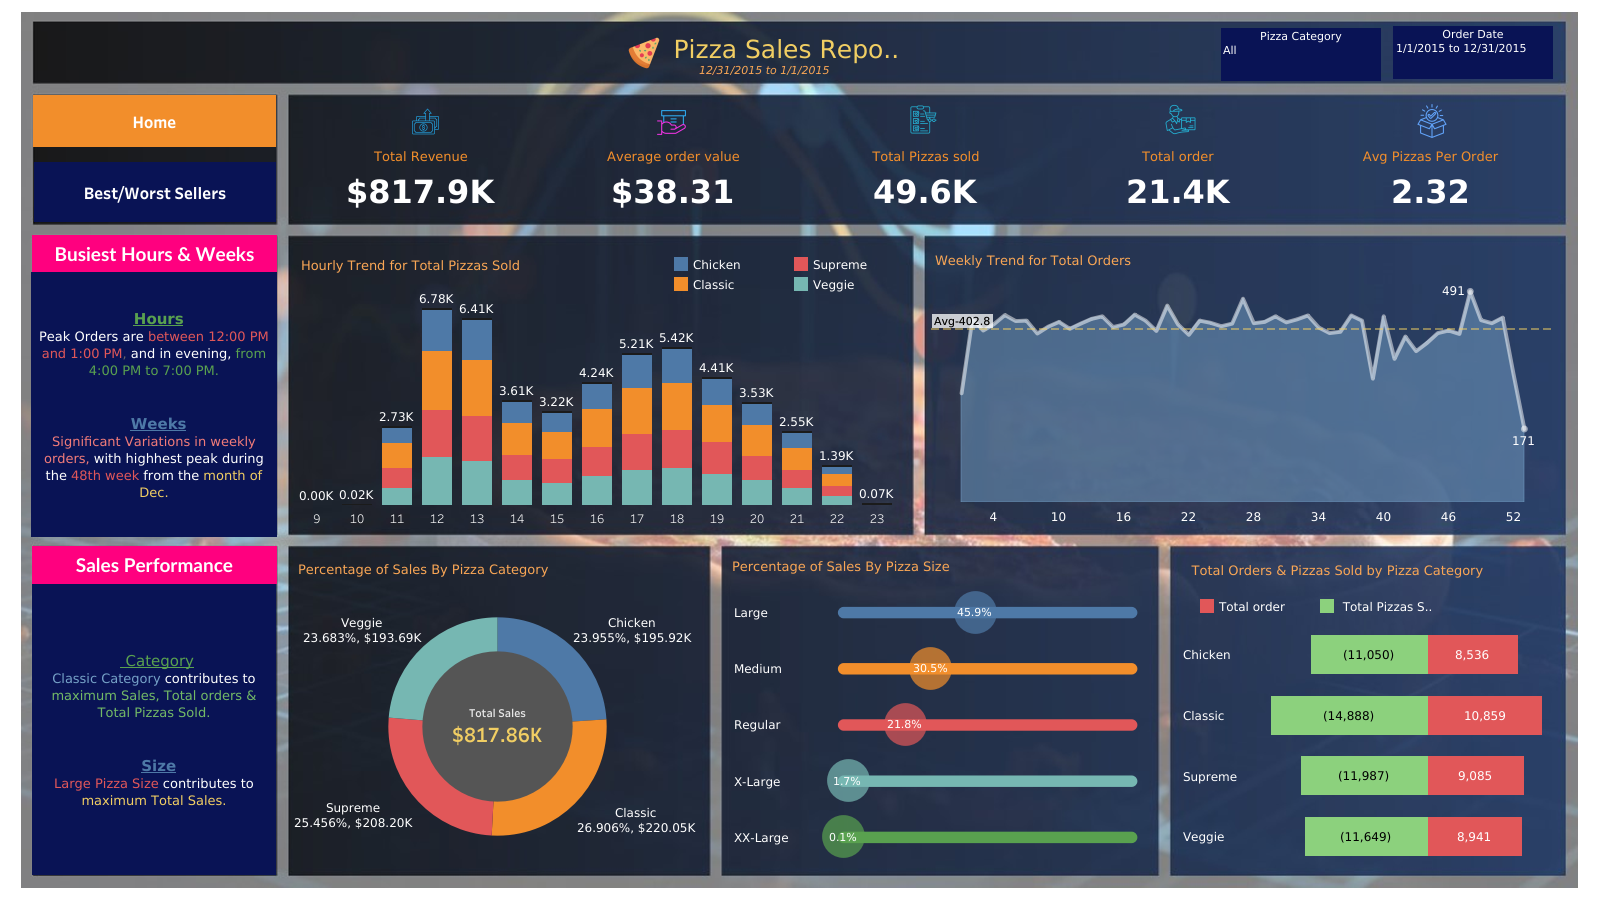

What the dashboard file says about the page in this screenshot:
{"tool":"tableau","page":{"name":"Home","canvas":[1600,900],"ordinal":1},"visuals":[{"type":"image","param":"C:/Users/Itachi/Desktop/New project tableu/Pizza Tableau 1.jpg","box":[8,8,1584,884]},{"type":"filter","title":"Hourly Trend for Total Pizzas Sold","param":"[federated.03bgv0s0dyzwbk13dzrzc1rfufev].[none:order_date:qk]","box":[1393,26,160,53]},{"type":"filter","title":"Hourly Trend for Total Pizzas Sold","param":"[federated.03bgv0s0dyzwbk13dzrzc1rfufev].[none:pizza_category:nk]","box":[1221,28,160,53]},{"type":"text","box":[671,32,230,34]},{"type":"image","param":"C:/Users/Itachi/Desktop/New project tableu/Pizza Sales Images/pizza-slice.png","box":[617,37,54,32]},{"type":"worksheet","title":"Date Range","mark":"Automatic","box":[644,61,241,19]},{"type":"dashboard-object","box":[33,95,243,52]},{"type":"image","param":"C:/Users/Itachi/Desktop/New project tableu/Pizza Sales Images/delivery-man.png","box":[1162,104,38,31]},{"type":"image","param":"C:/Users/Itachi/Desktop/New project tableu/Pizza Sales Images/order (1).png","box":[1415,104,41,34]},{"type":"image","param":"C:/Users/Itachi/Desktop/New project tableu/Pizza Sales Images/order-delivery.png","box":[909,105,29,30]},{"type":"image","param":"C:/Users/Itachi/Desktop/New project tableu/Pizza Sales Images/profit-growth.png","box":[410,106,54,31]},{"type":"image","param":"C:/Users/Itachi/Desktop/New project tableu/Pizza Sales Images/shipping-box.png","box":[654,106,36,33]},{"type":"worksheet","title":"KPI Banner","mark":"Automatic","box":[295,146,1262,72]},{"type":"dashboard-object","box":[34,162,242,60]},{"type":"text","box":[32,235,245,38]},{"type":"worksheet","title":"Weekly Trend for Total Orders","mark":"Area","rows":["Calculation_1211749794693611521","Calculation_1211749794693611521"],"cols":["order_date"],"box":[931,246,623,283]},{"type":"worksheet","title":"Hourly Trend for Total Pizzas Sold","mark":"Bar","rows":["Calculation_1211749794694283267","Calculation_1211749794694283267"],"cols":["order_time"],"box":[297,251,600,276]},{"type":"legend","title":"Hourly Trend for Total Pizzas Sold","param":"[federated.03bgv0s0dyzwbk13dzrzc1rfufev].[none:pizza_category:nk]","box":[671,254,244,58]},{"type":"text","box":[31,272,246,265]},{"type":"text","box":[32,546,245,38]},{"type":"worksheet","title":"Percentage of Sales By Pizza Size","mark":"Line","rows":["pizza_size"],"box":[728,552,424,313]},{"type":"worksheet","title":"Percentage of Sales By Pizza Category","mark":"Pie","rows":["Calculation_227713276439904257","Calculation_227713276439941123"],"box":[294,555,407,311]},{"type":"text","box":[1189,555,316,30]},{"type":"text","box":[32,584,244,291]},{"type":"legend","title":"Total Orders & Pizzas Sold by Pizza Category","param":"[federated.03bgv0s0dyzwbk13dzrzc1rfufev].[:Measure Names]","box":[1197,596,312,24]},{"type":"worksheet","title":"Total Orders & Pizzas Sold by Pizza Category","mark":"Automatic","rows":["pizza_category"],"box":[1177,624,379,243]}]}

Visuals, with their boxes in screenshot pixels (x1, y1, x2, y2), scaled from the page's 1600x900 canvas onto the 1599x899 screenshot:
image: (x1=8, y1=8, x2=1591, y2=891)
"Hourly Trend for Total Pizzas Sold" filter: (x1=1392, y1=26, x2=1552, y2=79)
"Hourly Trend for Total Pizzas Sold" filter: (x1=1220, y1=28, x2=1380, y2=81)
text: (x1=671, y1=32, x2=900, y2=66)
image: (x1=617, y1=37, x2=671, y2=69)
"Date Range" worksheet: (x1=644, y1=61, x2=884, y2=80)
dashboard-object: (x1=33, y1=95, x2=276, y2=147)
image: (x1=1161, y1=104, x2=1199, y2=135)
image: (x1=1414, y1=104, x2=1455, y2=138)
image: (x1=908, y1=105, x2=937, y2=135)
image: (x1=410, y1=106, x2=464, y2=137)
image: (x1=654, y1=106, x2=690, y2=139)
"KPI Banner" worksheet: (x1=295, y1=146, x2=1556, y2=218)
dashboard-object: (x1=34, y1=162, x2=276, y2=222)
text: (x1=32, y1=235, x2=277, y2=273)
"Weekly Trend for Total Orders" worksheet (Area marks): (x1=930, y1=246, x2=1553, y2=528)
"Hourly Trend for Total Pizzas Sold" worksheet (Bar marks): (x1=297, y1=251, x2=896, y2=526)
"Hourly Trend for Total Pizzas Sold" legend: (x1=671, y1=254, x2=914, y2=312)
text: (x1=31, y1=272, x2=277, y2=536)
text: (x1=32, y1=545, x2=277, y2=583)
"Percentage of Sales By Pizza Size" worksheet (Line marks): (x1=728, y1=551, x2=1151, y2=864)
"Percentage of Sales By Pizza Category" worksheet (Pie marks): (x1=294, y1=554, x2=701, y2=865)
text: (x1=1188, y1=554, x2=1504, y2=584)
text: (x1=32, y1=583, x2=276, y2=874)
"Total Orders & Pizzas Sold by Pizza Category" legend: (x1=1196, y1=595, x2=1508, y2=619)
"Total Orders & Pizzas Sold by Pizza Category" worksheet: (x1=1176, y1=623, x2=1555, y2=866)
